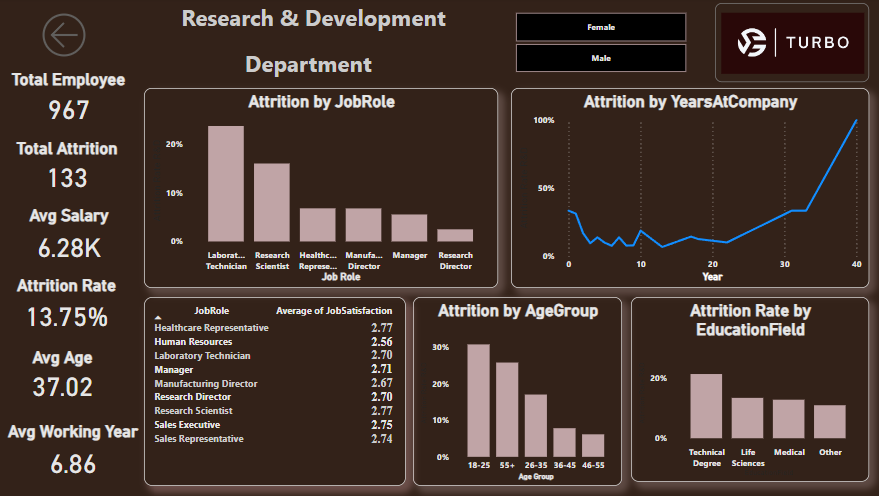

What the dashboard file says about the page in this screenshot:
{"tool":"powerbi","page":{"name":"Research and Development","canvas":[1280,720],"ordinal":3},"visuals":[{"type":"image","box":[1033.9,7.2,221.8,113.8],"z":0},{"type":"card","title":"Avg Age","fields":{"Values":["HR_Analytics.Average Age R&D"]},"box":[13,504,162.7,77.8],"z":1000},{"type":"card","title":"Avg Salary","fields":{"Values":["HR_Analytics.Average Salary R&D"]},"box":[4.3,299.5,198.7,86.4],"z":2000},{"type":"card","title":"Attrition Rate","fields":{"Values":["HR_Analytics.Attrition Rate R&D"]},"box":[10.1,400.3,180,83.5],"z":3000},{"type":"card","title":"Avg Working Year","fields":{"Values":["HR_Analytics.Average Working Years R&D"]},"box":[7.2,610.6,204.5,86.4],"z":4000},{"type":"card","title":"Total Attrition","fields":{"Values":["HR_Analytics.Total Attrition R&D"]},"box":[7.2,203,187.2,77.8],"z":5000},{"type":"card","title":"Total Employee","fields":{"Values":["HR_Analytics.Total Employees R&D"]},"box":[4.3,103.7,197.3,80.6],"z":6000},{"type":"textbox","box":[249.1,0,413.3,136.8],"z":7000},{"type":"clusteredColumnChart","title":"Attrition Rate by EducationField","fields":{"Category":["HR_Analytics.EducationField"],"Y":["HR_Analytics.Attrition Rate R&D"]},"box":[913,430.6,342.7,266.4],"z":8000},{"type":"clusteredColumnChart","title":"Attrition by AgeGroup","fields":{"Category":["HR_Analytics.AgeGroup"],"Y":["HR_Analytics.Attrition Rate R&D"]},"box":[599,430.6,301,272.2],"z":9000},{"type":"clusteredColumnChart","title":"Attrition by JobRole","fields":{"Category":["HR_Analytics.JobRole"],"Y":["HR_Analytics.Attrition Rate R&D"]},"box":[211.7,129.6,509.8,288],"z":10000},{"type":"lineChart","title":"Attrition by YearsAtCompany","fields":{"Category":["HR_Analytics.YearsAtCompany"],"Y":["HR_Analytics.Attrition Rate R&D"]},"box":[740.2,129.6,515.5,288],"z":11000},{"type":"pivotTable","fields":{"Rows":["HR_Analytics.JobRole"],"Values":["Avg(HR_Analytics.JobSatisfaction)"]},"box":[211.7,430.6,377.3,272.2],"z":12000},{"type":"slicer","fields":{"Values":["HR_Analytics.Gender"]},"box":[721.4,14.4,295.2,99.4],"z":13000},{"type":"actionButton","box":[57.6,14.4,90.7,77.8],"z":14000}]}

Visuals, with their boxes in screenshot pixels (x1, y1, x2, y2), scaled from the page's 1280x720 canvas onto the 879x496 screenshot:
image: {"left": 710, "top": 5, "right": 862, "bottom": 83}
"Avg Age" card: {"left": 9, "top": 347, "right": 121, "bottom": 401}
"Avg Salary" card: {"left": 3, "top": 206, "right": 139, "bottom": 266}
"Attrition Rate" card: {"left": 7, "top": 276, "right": 131, "bottom": 333}
"Avg Working Year" card: {"left": 5, "top": 421, "right": 145, "bottom": 480}
"Total Attrition" card: {"left": 5, "top": 140, "right": 133, "bottom": 193}
"Total Employee" card: {"left": 3, "top": 71, "right": 138, "bottom": 127}
textbox: {"left": 171, "top": 0, "right": 455, "bottom": 94}
"Attrition Rate by EducationField" clusteredColumnChart: {"left": 627, "top": 297, "right": 862, "bottom": 480}
"Attrition by AgeGroup" clusteredColumnChart: {"left": 411, "top": 297, "right": 618, "bottom": 484}
"Attrition by JobRole" clusteredColumnChart: {"left": 145, "top": 89, "right": 495, "bottom": 288}
"Attrition by YearsAtCompany" lineChart: {"left": 508, "top": 89, "right": 862, "bottom": 288}
pivotTable - HR_Analytics.JobRole x Avg(HR_Analytics.JobSatisfaction): {"left": 145, "top": 297, "right": 404, "bottom": 484}
slicer - HR_Analytics.Gender: {"left": 495, "top": 10, "right": 698, "bottom": 78}
actionButton: {"left": 40, "top": 10, "right": 102, "bottom": 64}
